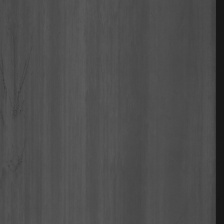water_spot: (0, 34, 31, 176)
